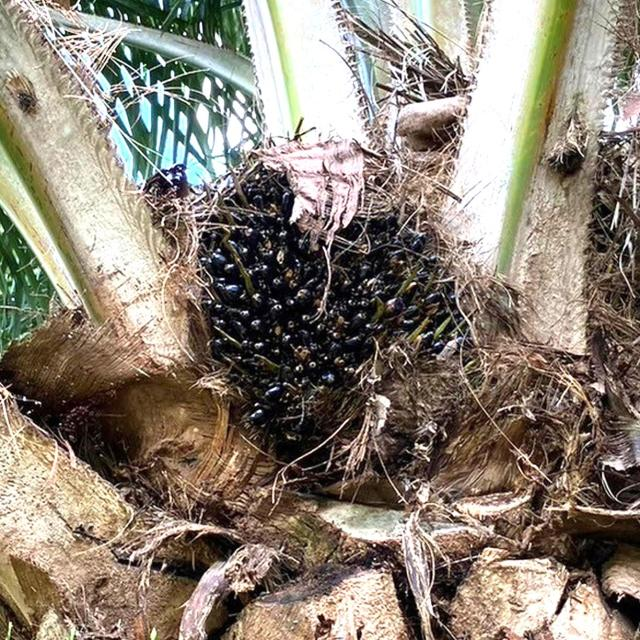unripe: (188, 149, 469, 455)
